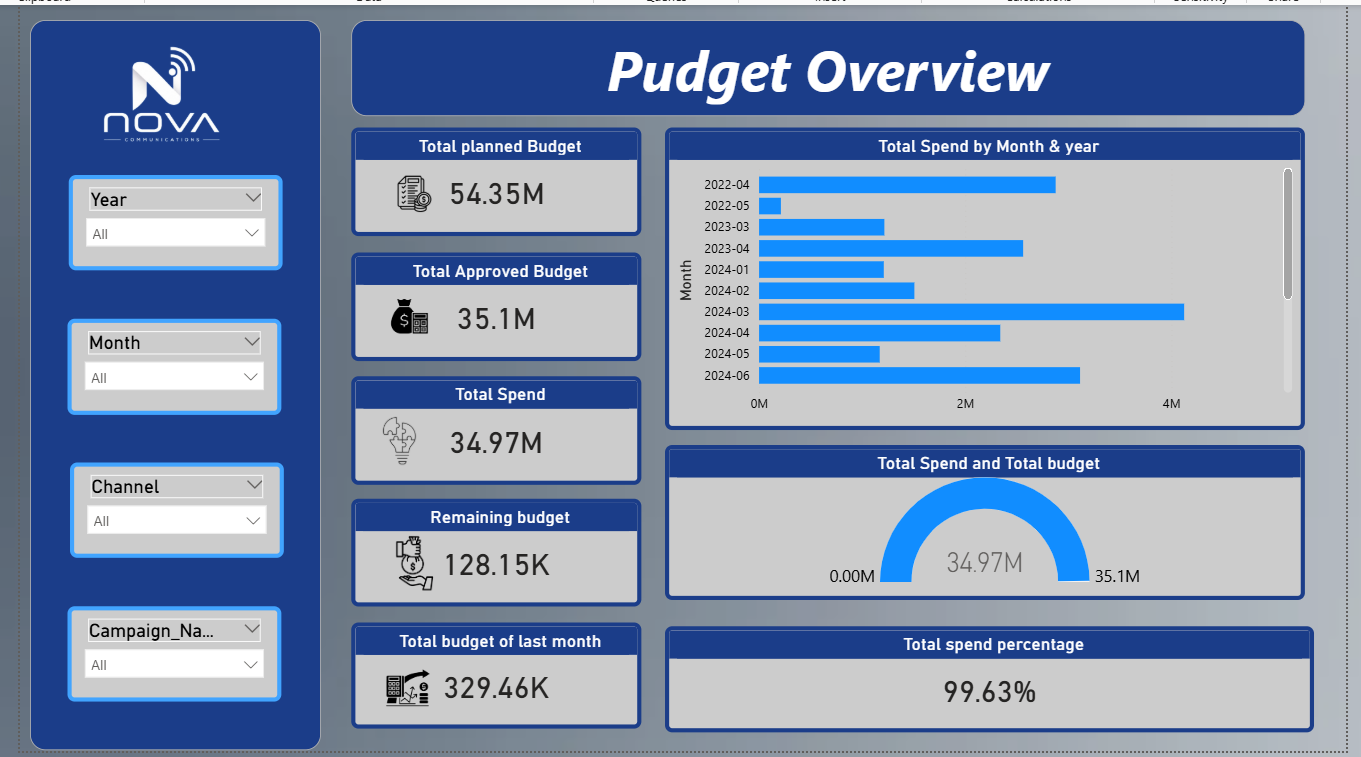

The page's visual inventory and layout, read from the dashboard file:
{"tool":"powerbi","page":{"name":"Pudget Overview","canvas":[1280,720],"ordinal":0},"visuals":[{"type":"card","title":"Total  Approved Budget","fields":{"Values":["___Campaigns.Total budget"]},"box":[319.7,238.9,279.9,105],"z":0},{"type":"card","title":"Total Spend","fields":{"Values":["Annual_Media_Spend.nn"]},"box":[319.7,358.3,279.9,105],"z":1000},{"type":"card","title":"Remaining budget","fields":{"Values":["Annual_Media_Spend.remaining budget"]},"box":[319.7,476.5,279.9,103.8],"z":2000},{"type":"gauge","fields":{"Y":["Annual_Media_Spend.Total Spend"],"MaxValue":["___Campaigns.Total budget"]},"box":[622.7,425,617.3,149.3],"z":3000},{"type":"textbox","title":"Pudget Overview","box":[319.7,14.5,920.5,92.9],"z":4000},{"type":"textbox","box":[9.4,14.8,281.1,704.7],"z":5000},{"type":"image","box":[36.3,14.8,201.7,149.3],"z":6000},{"type":"barChart","title":"Total Spend by  Month & year","fields":{"Y":["Annual_Media_Spend.Total Spend"],"Category":["__Daily_Channel_Performance.Month","__Daily_Channel_Performance.Date"]},"box":[622.7,118.3,617.3,291.8],"z":7000},{"type":"card","title":"Total spend percentage","fields":{"Values":["Annual_Media_Spend.consumed pudget"]},"box":[622.7,599.8,626.7,102.2],"z":8000},{"type":"card","title":"Total budget of last month","fields":{"Values":["Annual_Media_Spend.Last Month Budget"]},"box":[319.7,596.2,279.9,102.5],"z":9000},{"type":"card","title":"Total planned Budget","fields":{"Values":["Annual_Media_Spend.total planned budget"]},"box":[319.7,118.2,279.9,105],"z":10000},{"type":"image","box":[352.3,238.9,47.1,123.1],"z":11000},{"type":"image","box":[363.1,125.5,35,113.4],"z":12000},{"type":"image","box":[330.6,511.5,100.1,54.3],"z":13000},{"type":"image","box":[334.2,341.4,63.9,158],"z":14000},{"type":"image","box":[319.7,609.3,106.2,100.1],"z":15000},{"type":"slicer","fields":{"Values":["__Daily_Channel_Performance.Month"]},"box":[45.8,302.4,206.3,92.9],"z":16000},{"type":"slicer","fields":{"Values":["__Daily_Channel_Performance.Channel"]},"box":[48.3,442,206.3,91.7],"z":17000},{"type":"slicer","fields":{"Values":["__Daily_Channel_Performance.Year"]},"box":[47.1,164.1,206.3,91.7],"z":18000},{"type":"slicer","fields":{"Values":["___Campaigns.Campaign_Name"]},"box":[45.8,580.3,206.3,91.7],"z":19000}]}

Visuals, with their boxes in screenshot pixels (x1, y1, x2, y2):
"Total  Approved Budget" card: (left=346, top=248, right=637, bottom=357)
"Total Spend" card: (left=346, top=372, right=637, bottom=481)
"Remaining budget" card: (left=346, top=495, right=637, bottom=603)
gauge - Annual_Media_Spend.Total Spend x ___Campaigns.Total budget: (left=661, top=442, right=1302, bottom=597)
"Pudget Overview" textbox: (left=346, top=15, right=1303, bottom=112)
textbox: (left=24, top=15, right=316, bottom=747)
image: (left=52, top=15, right=261, bottom=170)
"Total Spend by  Month & year" barChart: (left=661, top=123, right=1302, bottom=426)
"Total spend percentage" card: (left=661, top=623, right=1312, bottom=729)
"Total budget of last month" card: (left=346, top=619, right=637, bottom=726)
"Total planned Budget" card: (left=346, top=123, right=637, bottom=232)
image: (left=380, top=248, right=429, bottom=376)
image: (left=391, top=130, right=428, bottom=248)
image: (left=358, top=531, right=462, bottom=588)
image: (left=361, top=355, right=428, bottom=519)
image: (left=346, top=633, right=457, bottom=737)
slicer - __Daily_Channel_Performance.Month: (left=62, top=314, right=276, bottom=411)
slicer - __Daily_Channel_Performance.Channel: (left=64, top=459, right=279, bottom=554)
slicer - __Daily_Channel_Performance.Year: (left=63, top=170, right=277, bottom=266)
slicer - ___Campaigns.Campaign_Name: (left=62, top=603, right=276, bottom=698)
